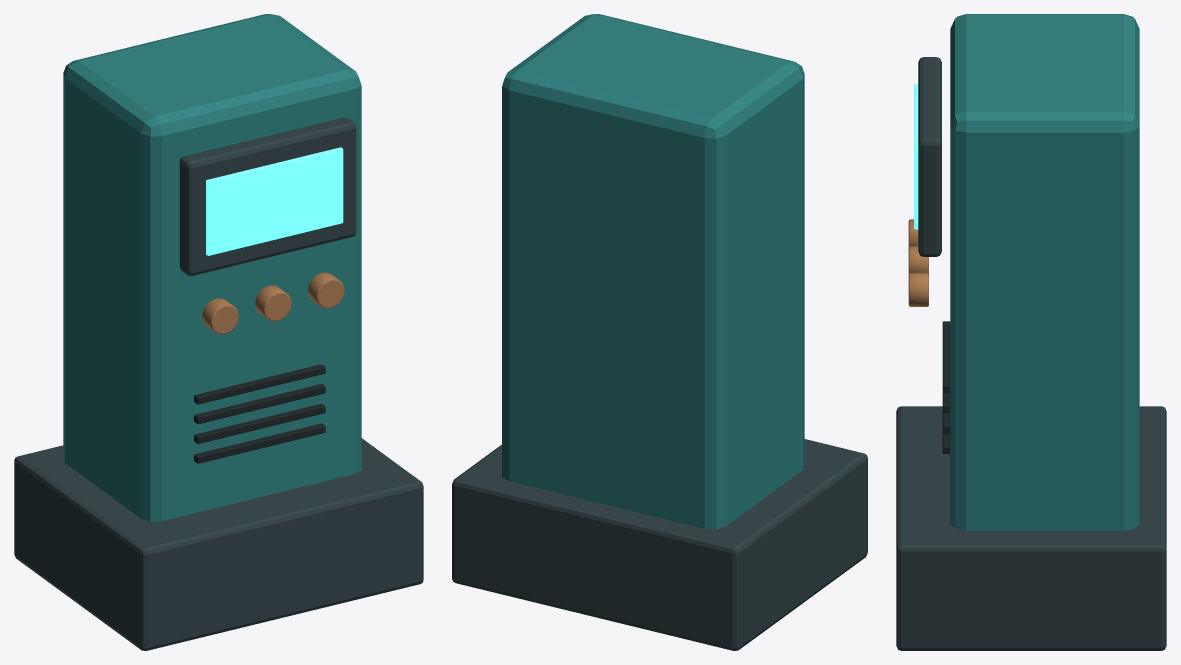
Rendered from SM_RelayConsole.fbx.
3 renders of one model, left to right at view 1: azimuth 30°, elevation 25°; view 2: azimuth 150°, elevation 25°; view 3: azimuth 270°, elevation 25°, orthographic. The views are drawn at different scales.
Visible parts, largest first — view 1: SM_RelayConsole; view 2: SM_RelayConsole; view 3: SM_RelayConsole.
Boxes of the visible parts, x1=… form: SM_RelayConsole: x1=14, y1=14, x2=423, y2=650; SM_RelayConsole: x1=452, y1=14, x2=867, y2=650; SM_RelayConsole: x1=896, y1=14, x2=1166, y2=650.
Size of what is drawn, in the model's own units: 0.75 by 0.6 by 1.27.
